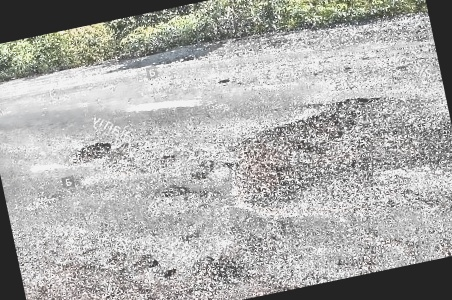pothole: (220, 89, 404, 223), (68, 136, 116, 168), (131, 251, 163, 271), (159, 182, 193, 200), (161, 266, 181, 280), (217, 75, 233, 86)
